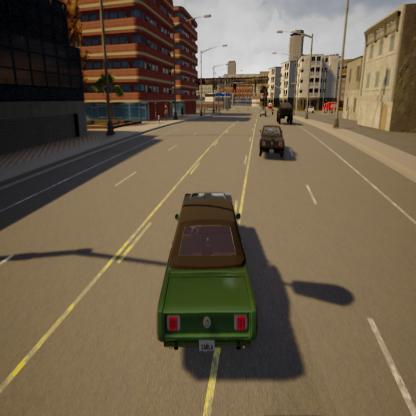Cars: (159, 188, 259, 352), (260, 121, 285, 162), (276, 98, 294, 126)
